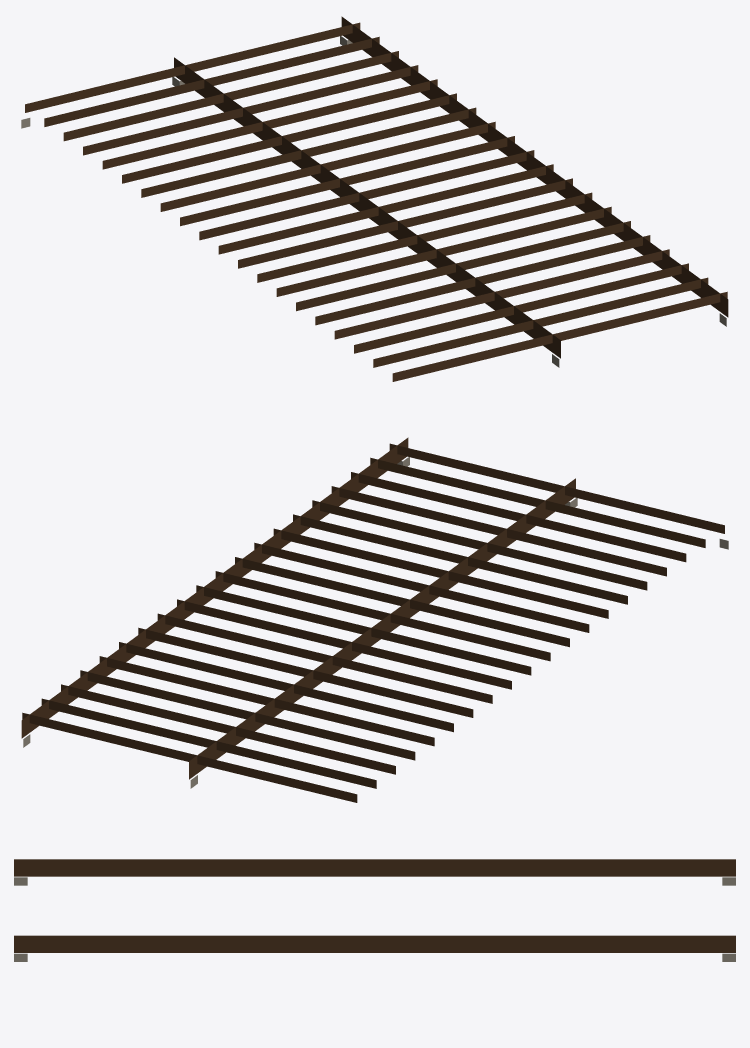
File: roof.timber_bay.oak.glb
3 views of the same model, one above another, from view 1: azimuth 30°, elevation 25°; view 2: azimuth 150°, elevation 25°; view 3: azimuth 270°, elevation 25° (orthographic). The views are drawn at different scales.
Parts seen in each view (by area): view 1: roof_timber_bay_oak; view 2: roof_timber_bay_oak; view 3: roof_timber_bay_oak.
Boxes of the visible parts, x1,y1,x2,y2 form: roof_timber_bay_oak: [21, 16, 728, 381]; roof_timber_bay_oak: [21, 437, 728, 802]; roof_timber_bay_oak: [14, 859, 735, 961].
Size of what is drawn, in the model's own units: 8 by 0.62 by 16.
